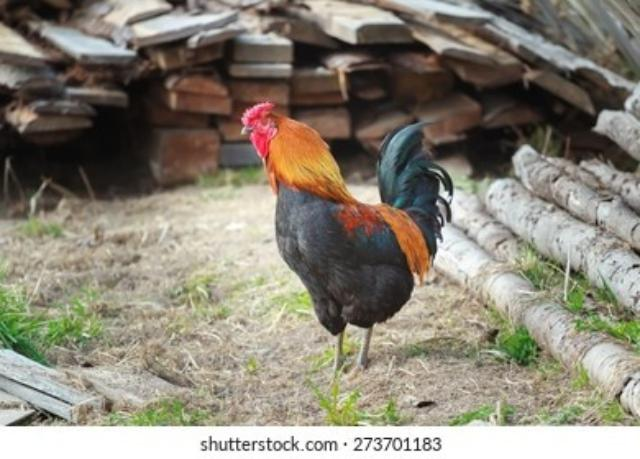Chicken: (241, 102, 455, 373)
